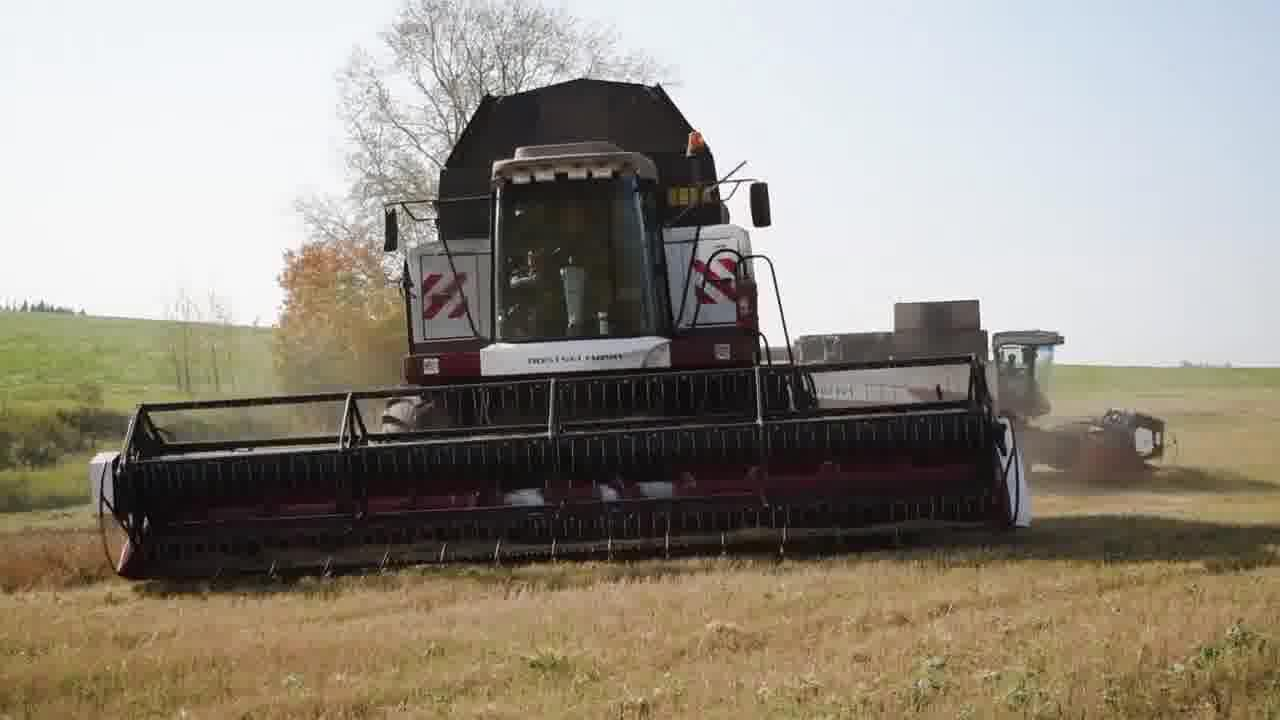combine harvester: (90, 75, 1038, 583), (782, 295, 1193, 484)
